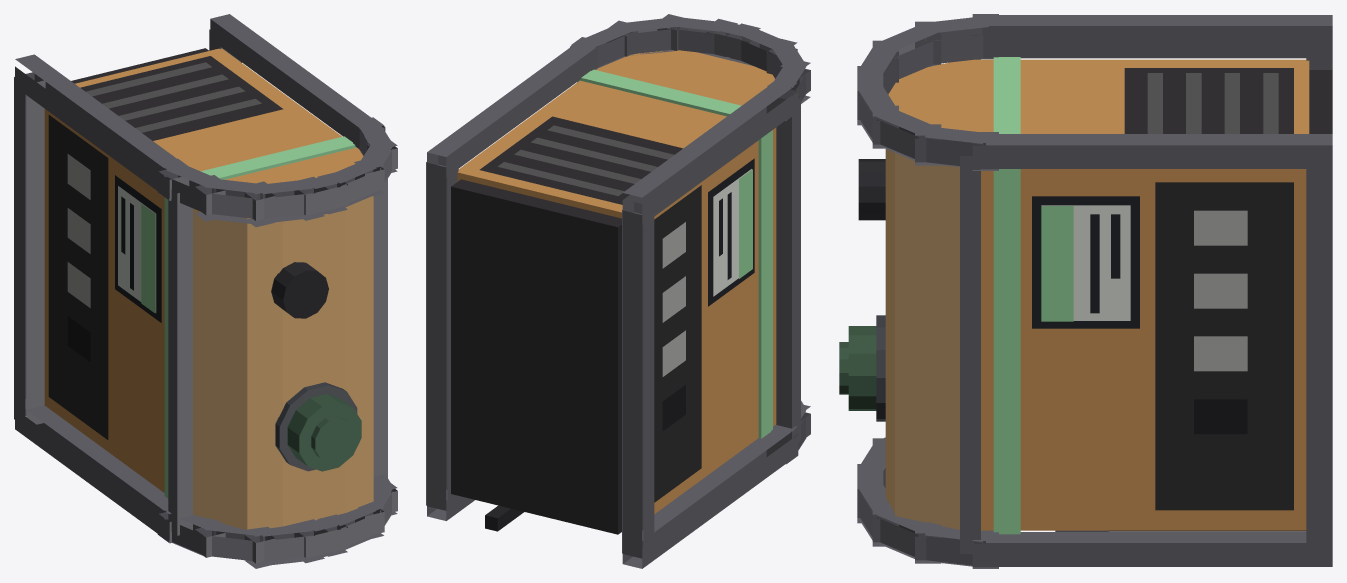
The model's file is backup_ground_premium_off_E.obj.
3 renders of one model, left to right at view 1: azimuth 30°, elevation 25°; view 2: azimuth 150°, elevation 25°; view 3: azimuth 270°, elevation 25°, orthographic. The views are drawn at different scales.
Visible parts, largest first — view 1: backup_ground_premium_off_E; view 2: backup_ground_premium_off_E; view 3: backup_ground_premium_off_E.
Boxes of the visible parts, box(x1,y1,x2,y2) form: backup_ground_premium_off_E: box(14, 14, 397, 568); backup_ground_premium_off_E: box(426, 14, 810, 568); backup_ground_premium_off_E: box(839, 14, 1332, 568).
Size of the model in its own units: 0.377 by 0.6265 by 0.64.
1 material, 1 textured.
